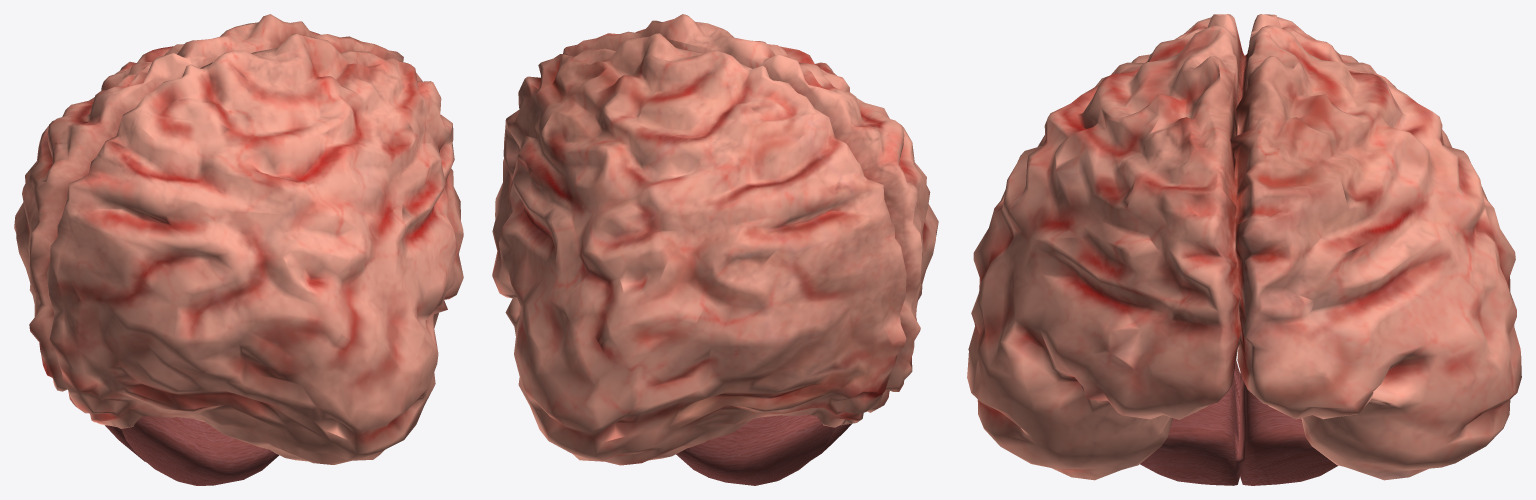
File: Brain.gltf
The picture shows the model from 3 angles, left to right: view 1: azimuth 30°, elevation 25°; view 2: azimuth 150°, elevation 25°; view 3: azimuth 270°, elevation 25°; orthographic projection. The views are drawn at different scales.
Visible parts, largest first — view 1: Brain_Final; view 2: Brain_Final; view 3: Brain_Final.
Part boxes in pixels (left/top/right/bottom): Brain_Final: left=14, top=14, right=463, bottom=485; Brain_Final: left=492, top=14, right=938, bottom=485; Brain_Final: left=967, top=14, right=1521, bottom=485.
Bounding box in the file's own units: 0.5947 × 0.5807 × 0.6202.
Materials: 1 (1 with a texture image).
